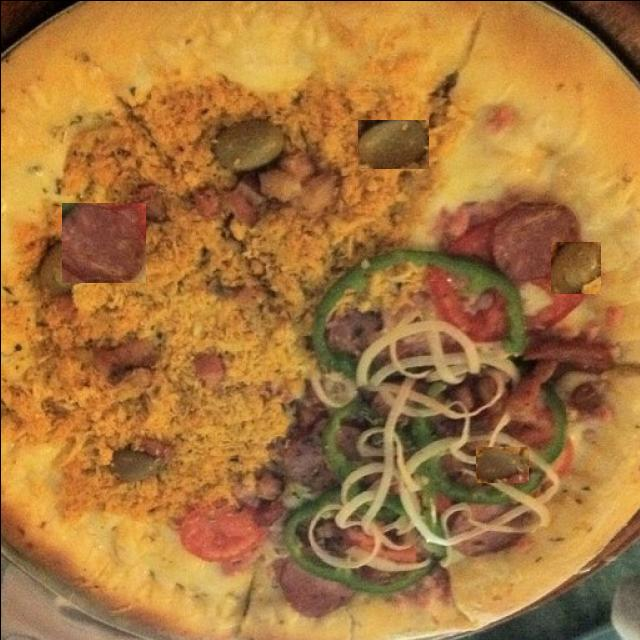olive: (357, 119, 428, 168), (550, 241, 600, 293), (475, 446, 528, 482)
pepperoni: (61, 202, 145, 282), (111, 498, 188, 562), (284, 558, 358, 616), (28, 345, 117, 382)
pizza: (0, 0, 640, 639)
